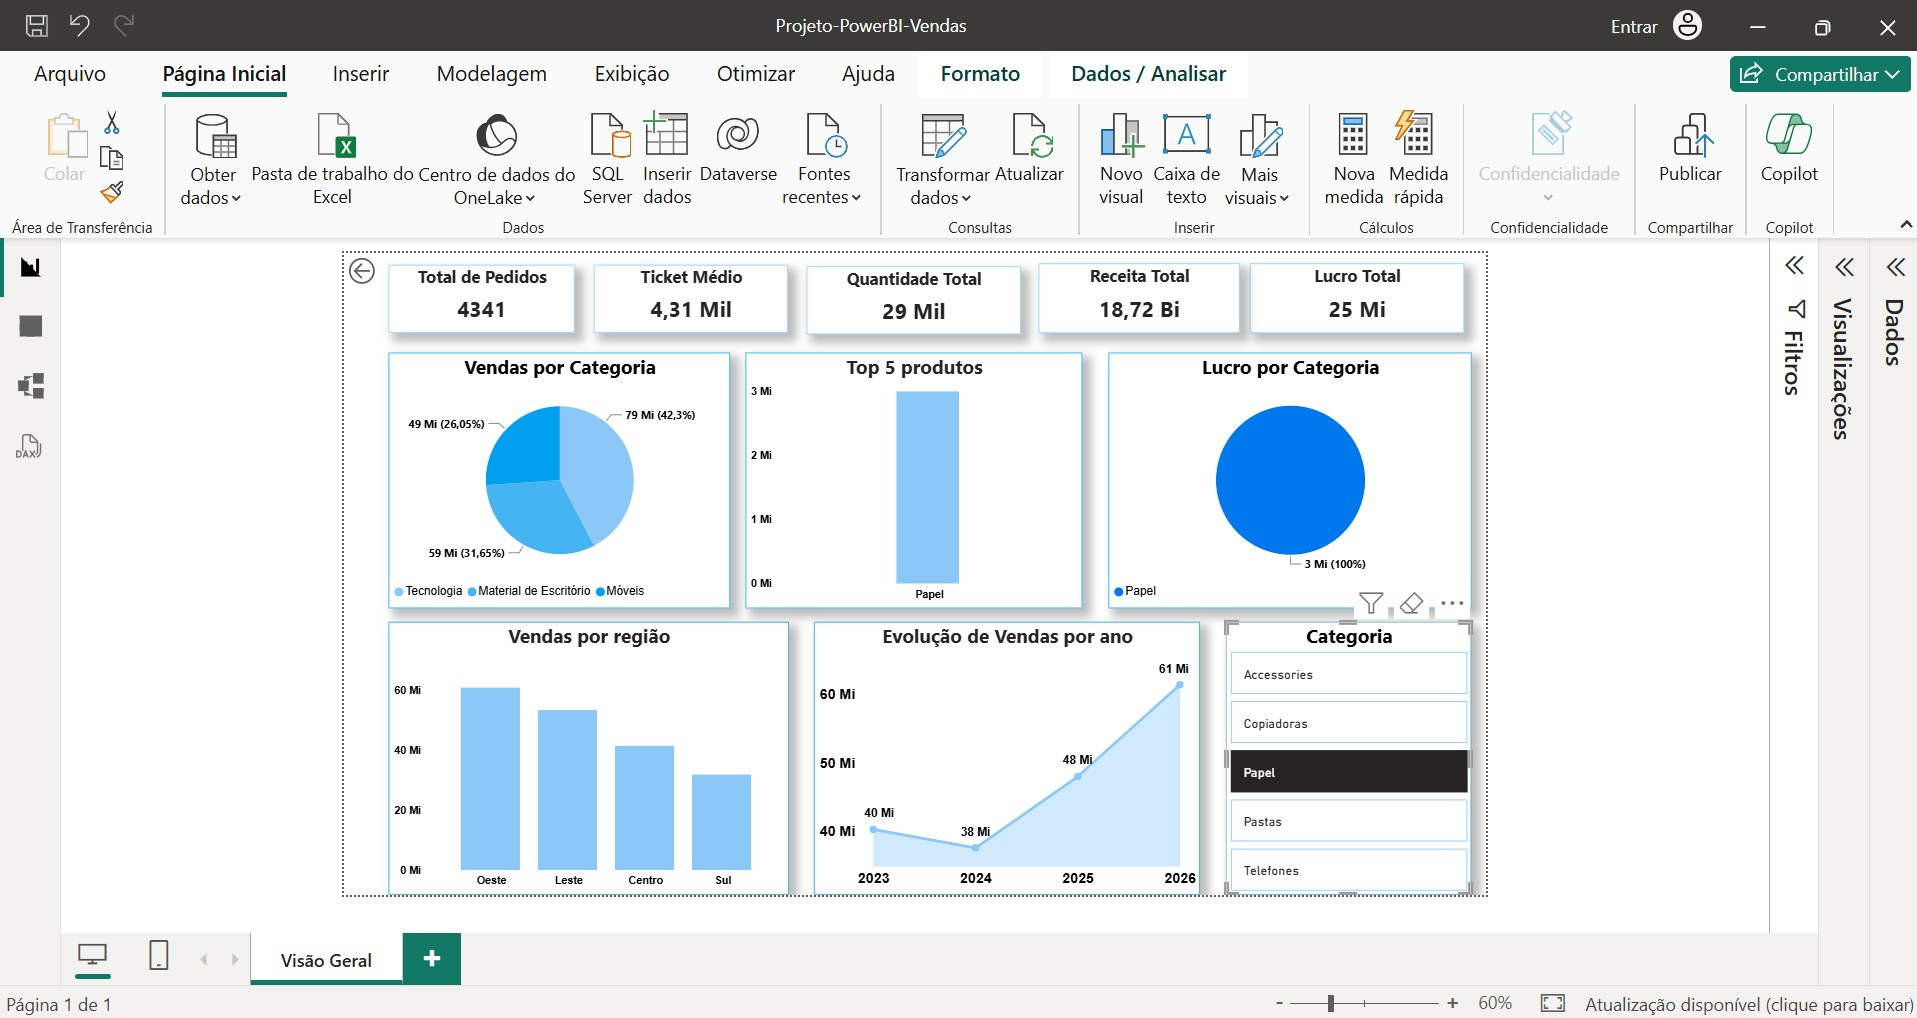

The dashboard page shown, as its layout file describes it:
{"tool":"powerbi","page":{"name":"Visão Geral","canvas":[1280,720],"ordinal":0},"visuals":[{"type":"card","title":"Lucro Total","fields":{"Values":["Sum(VISÃO GERAL.lucro_total)"]},"box":[1014.7,11.2,239.7,78.1],"z":0},{"type":"card","title":"Quantidade Total","fields":{"Values":["Sum(VISÃO GERAL.quantidade_total)"]},"box":[518.5,14.9,239.7,76.2],"z":1000},{"type":"card","title":"Ticket Médio","fields":{"Values":["Sum(SQLite 13.Ticket_Medio_Correto)"]},"box":[280.6,13,217.4,76.2],"z":2000},{"type":"card","title":"Receita Total","fields":{"Values":["Sum(SQLite 13.Receita_Total)"]},"box":[778.7,11.2,224.9,78.1],"z":3000},{"type":"card","title":"Total de Pedidos","fields":{"Values":["Sum(SQLite 13.Total_Pedidos)"]},"box":[50.2,13,208.1,76.2],"z":4000},{"type":"clusteredColumnChart","title":"Vendas por região","fields":{"Category":["VENDAS POR REGIÃO.region"],"Y":["Sum(VENDAS POR REGIÃO.receita)"]},"box":[50.2,413.8,448.2,305.6],"z":5000},{"type":"lineChart","title":"Evolução de Vendas por ano","fields":{"Category":["EVOLUÇÃO ANOS.ano"],"Y":["Sum(EVOLUÇÃO ANOS.receita)"]},"box":[526.6,413.8,432.6,305.6],"z":6000},{"type":"pieChart","title":"Vendas por Categoria","fields":{"Category":["VENDAS POR CATEGORIA.category"],"Y":["Sum(VENDAS POR CATEGORIA.receita)"]},"box":[50.2,111.5,382.8,286.2],"z":7000},{"type":"pieChart","title":"Lucro por Categoria","fields":{"Category":["SUBCATEGORIAS TOP 5 LUCRATIVAS.sub_category"],"Y":["Sum(SUBCATEGORIAS TOP 5 LUCRATIVAS.lucro)"]},"box":[856.8,111.5,407,286.2],"z":8000},{"type":"actionButton","box":[0,0,100,40],"z":9000},{"type":"columnChart","title":"Top 5 produtos","fields":{"Category":["SUBCATEGORIAS TOP 5 LUCRATIVAS.sub_category"],"Y":["Sum(SUBCATEGORIAS TOP 5 LUCRATIVAS.lucro)"]},"box":[449.8,111.5,377.3,286.2],"z":10000},{"type":"advancedSlicerVisual","title":"Categoria","fields":{"Values":["VENDAS POR CATEGORIA.category"]},"box":[989,414,275,306],"z":10001}]}

Visuals, with their boxes on the page's 1280x720 design canvas (x1, y1, x2, y2). These are canvas units, not pixel positions in the 1917x1018 screenshot, which may show the page scaled, cropped or inside an application window:
"Lucro Total" card: Rect(1015, 11, 1254, 89)
"Quantidade Total" card: Rect(518, 15, 758, 91)
"Ticket Médio" card: Rect(281, 13, 498, 89)
"Receita Total" card: Rect(779, 11, 1004, 89)
"Total de Pedidos" card: Rect(50, 13, 258, 89)
"Vendas por região" clusteredColumnChart: Rect(50, 414, 498, 719)
"Evolução de Vendas por ano" lineChart: Rect(527, 414, 959, 719)
"Vendas por Categoria" pieChart: Rect(50, 112, 433, 398)
"Lucro por Categoria" pieChart: Rect(857, 112, 1264, 398)
actionButton: Rect(0, 0, 100, 40)
"Top 5 produtos" columnChart: Rect(450, 112, 827, 398)
"Categoria" advancedSlicerVisual: Rect(989, 414, 1264, 720)
